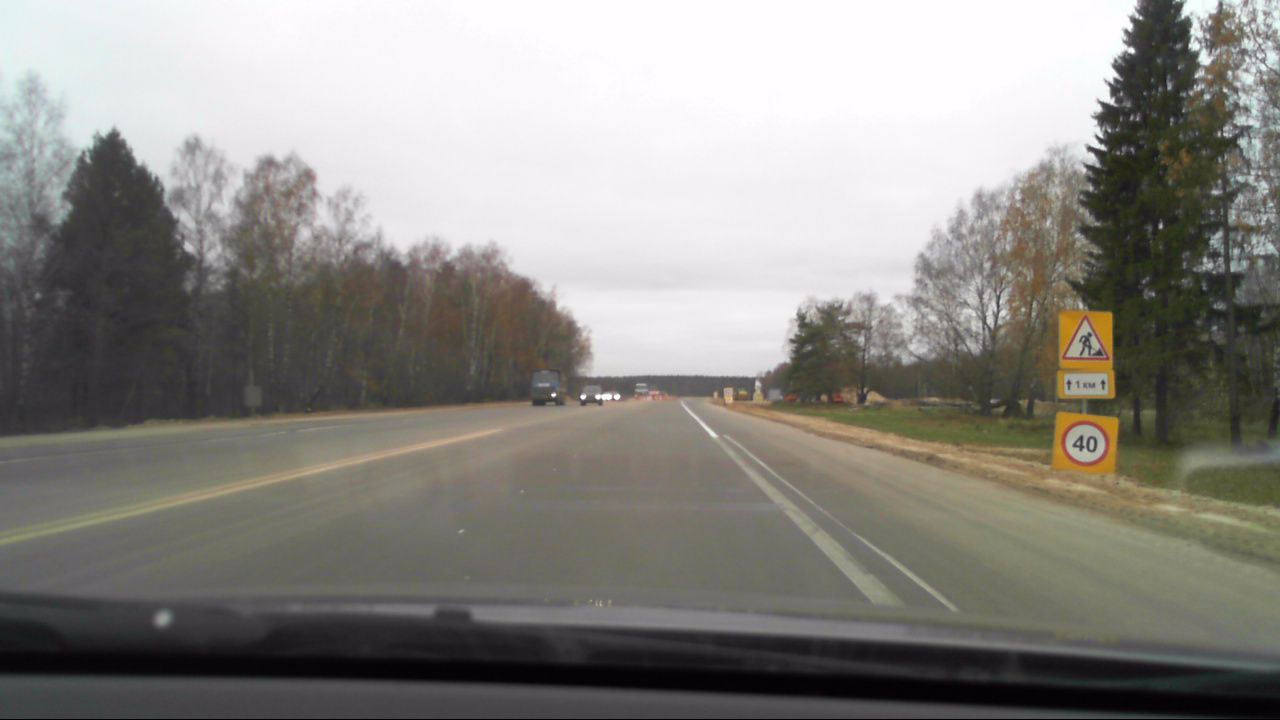speed_warning_40: (1054, 414, 1116, 476)
